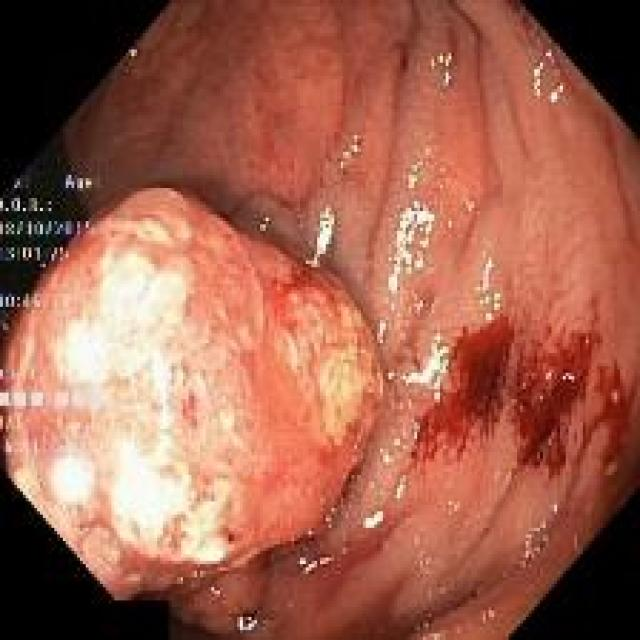Polyps: (0, 189, 382, 599)
